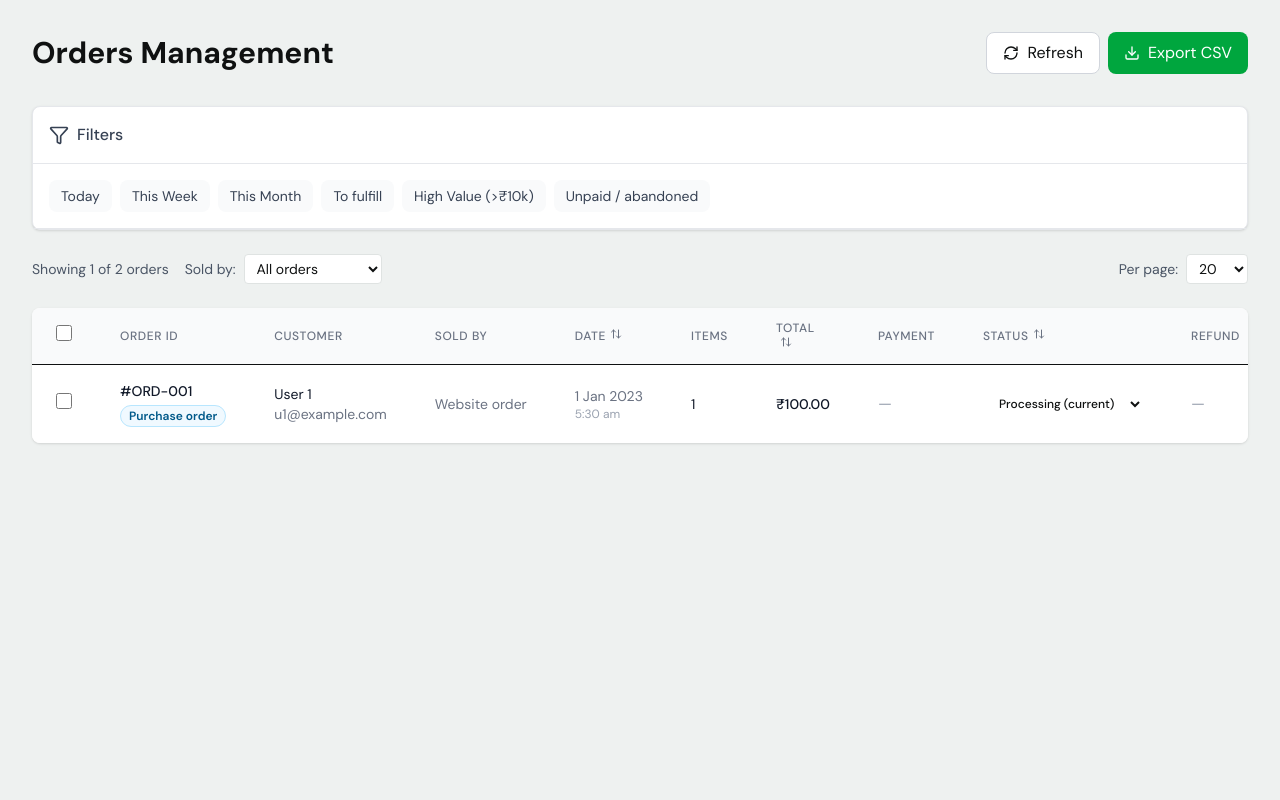
AdminOrdersPage › shipping hand-off to the Parcels panel › keeps the fast inline dialog for a single-unit order with no parcels
Expected: the text "#ORD-001" is shown, top-left (120, 382), bottom-right (192, 400)
Select "Shipped" in the 3rd dropdown: (1063, 404) top-left (983, 391), bottom-right (1143, 417)
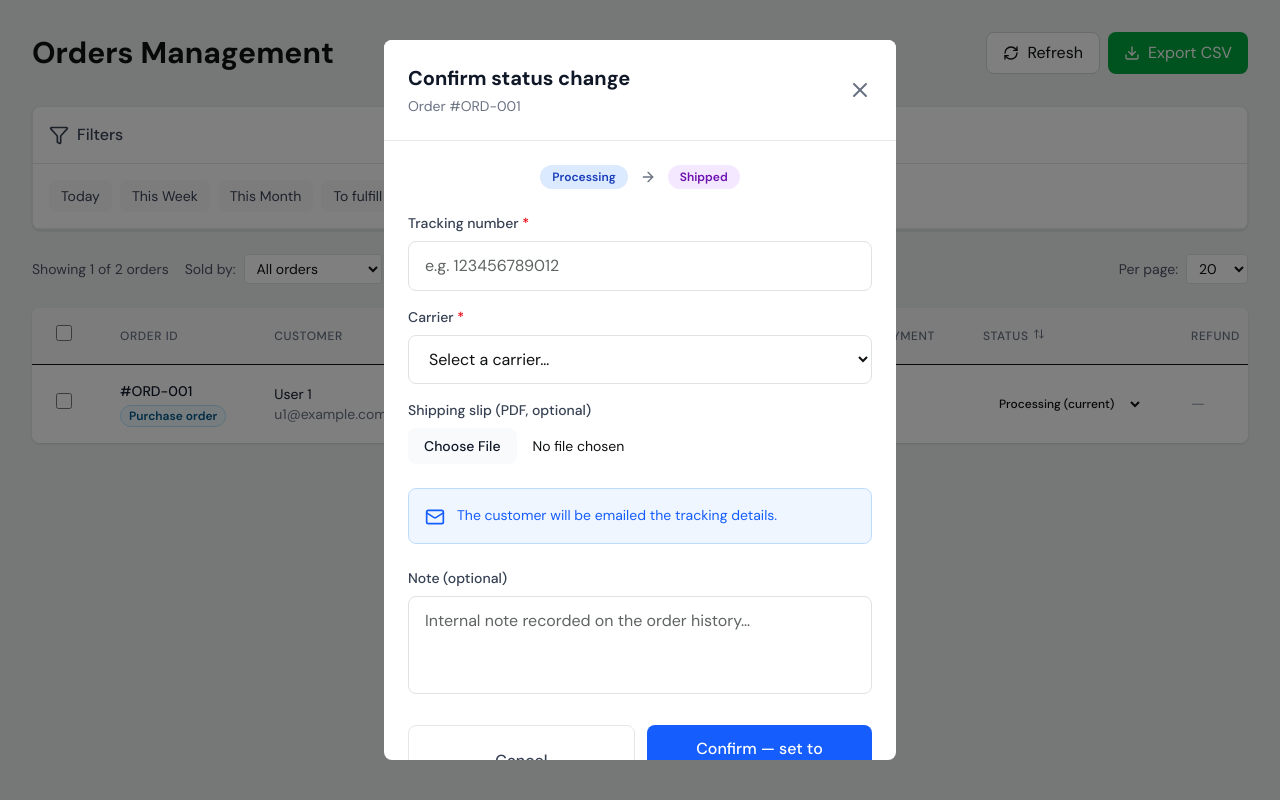
Result: the field with placeholder "e.g. 123456789012" is shown at top-left (408, 241), bottom-right (872, 291)
